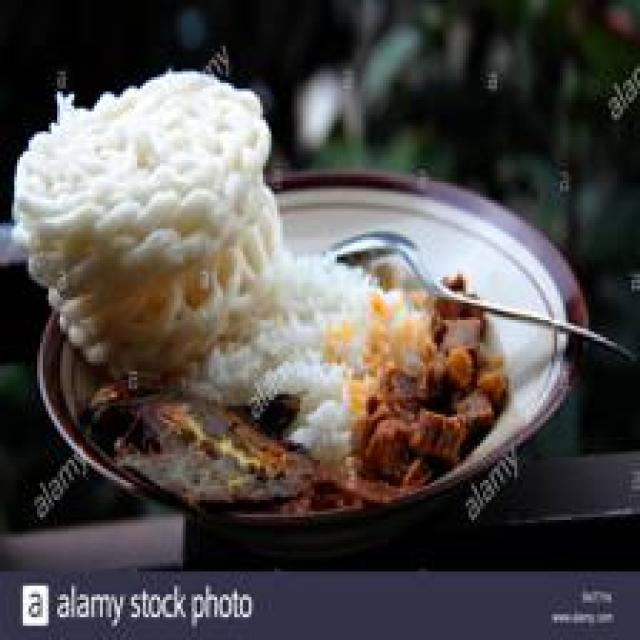Wet Waste: (160, 240, 430, 482)
